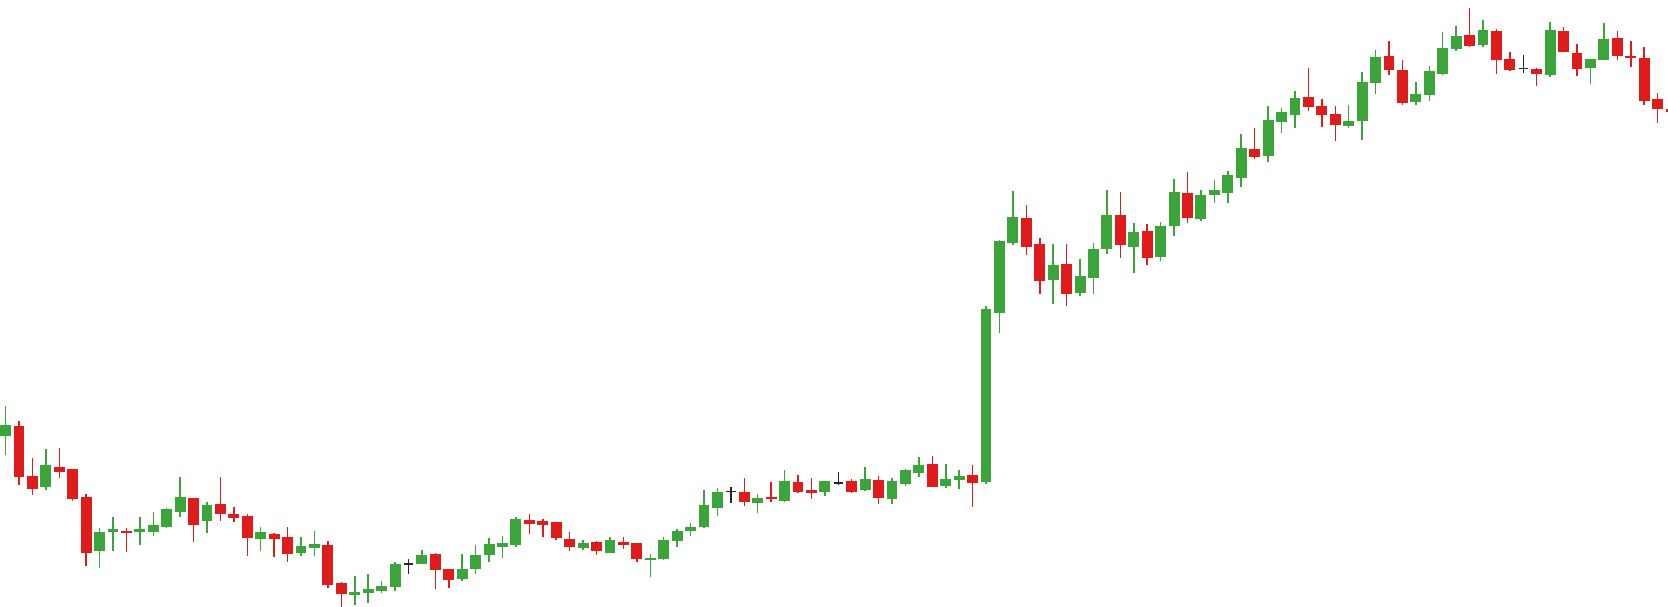sell: (1383, 7, 1504, 78)
